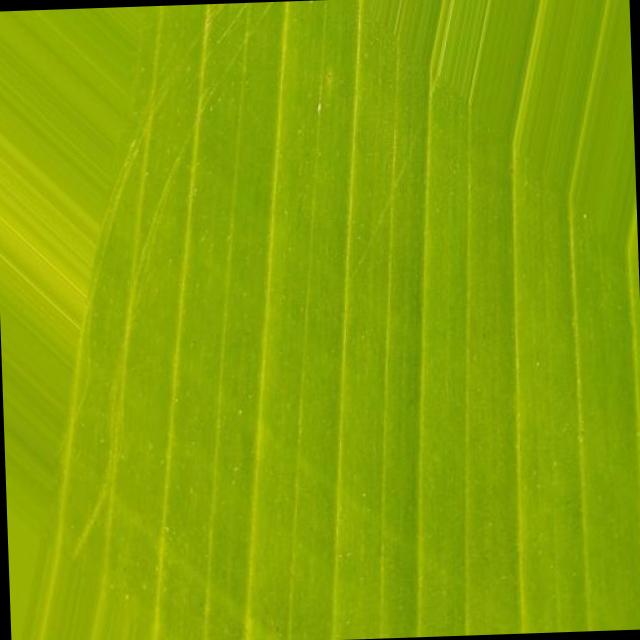Banana_Healthy: (174, 138, 537, 492)
